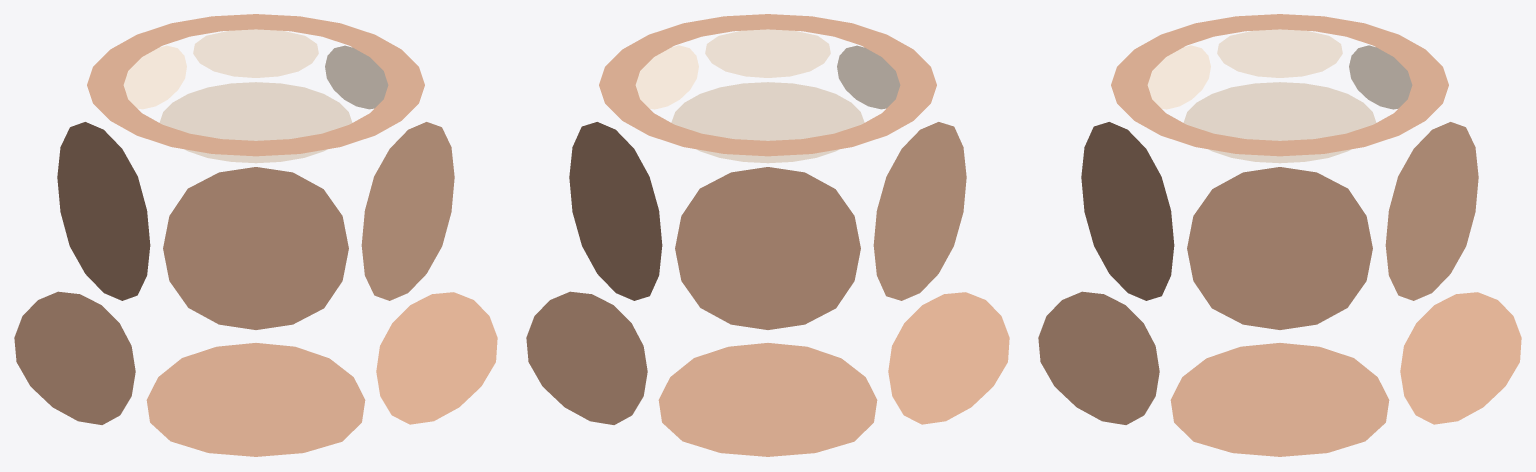
The model's file is stump_round.glb.
3 views of the same model, side by side, from view 1: azimuth 30°, elevation 25°; view 2: azimuth 150°, elevation 25°; view 3: azimuth 270°, elevation 25° (orthographic).
Parts seen in each view (by area): view 1: stump_round; view 2: stump_round; view 3: stump_round.
Part boxes in pixels (bbox=[...]): stump_round: bbox=[14, 14, 497, 456]; stump_round: bbox=[526, 14, 1009, 456]; stump_round: bbox=[1038, 14, 1521, 456].
Bounding box in the file's own units: 0.3178 × 0.2065 × 0.327.
